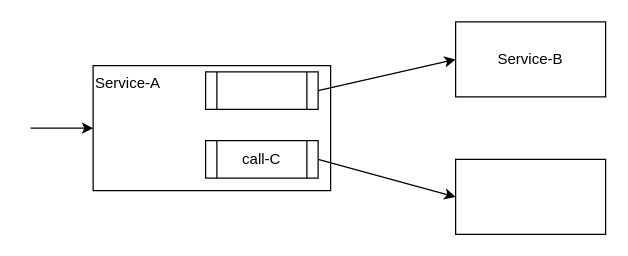
This 628x256 diagram has some shape labels left out. Each missing label, with the centre of its shape:
call-B: (x=261, y=90)
Service-C: (x=530, y=196)
